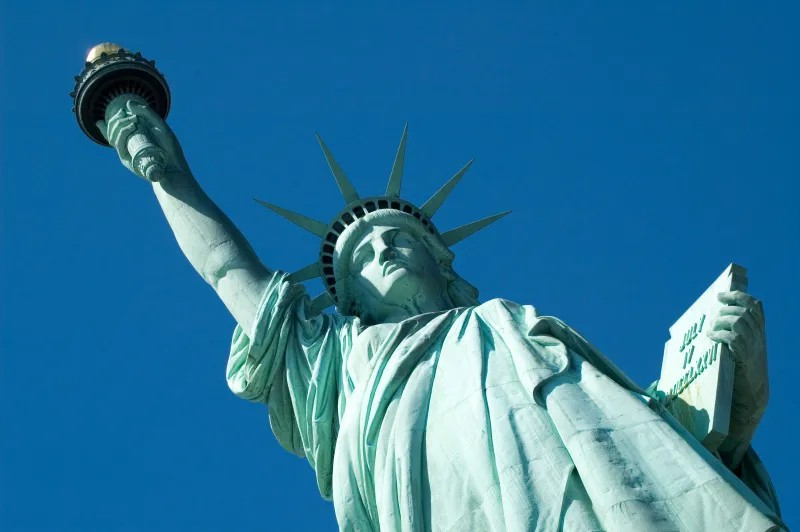SL: (69, 42, 790, 532)
